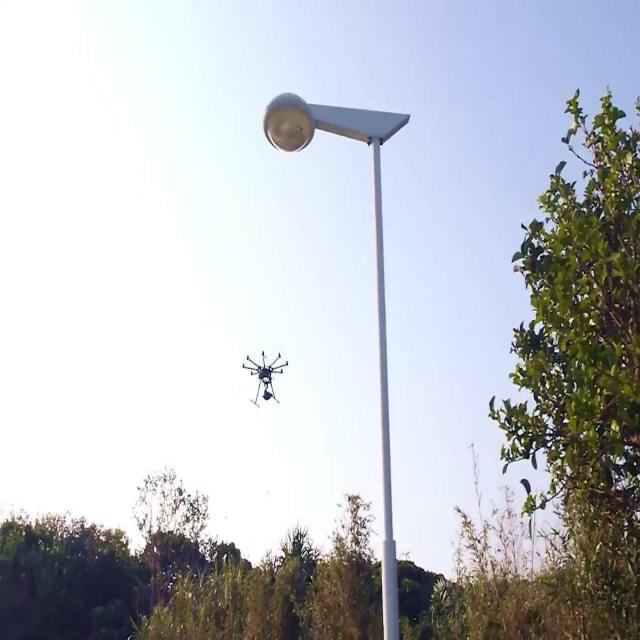UAV: (242, 350, 288, 409)
